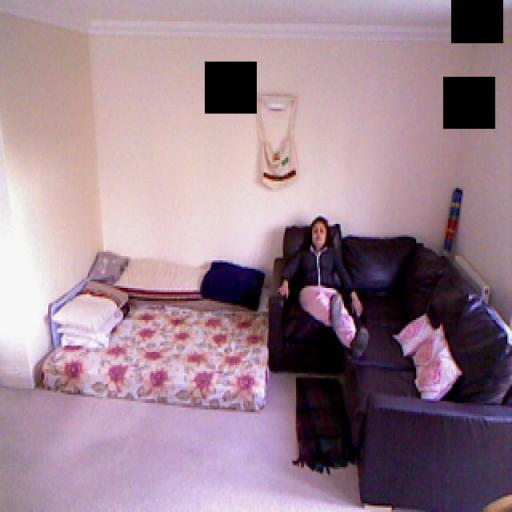Fall: (276, 197, 375, 370)
